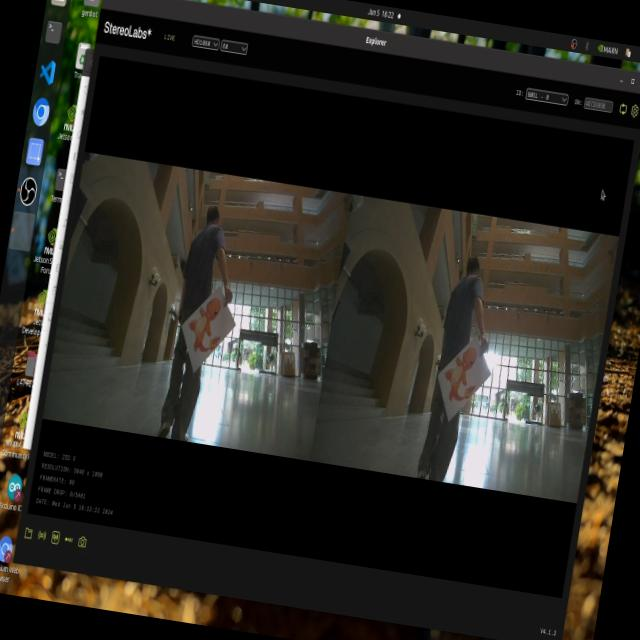red: (183, 283, 233, 363), (439, 336, 482, 408)
